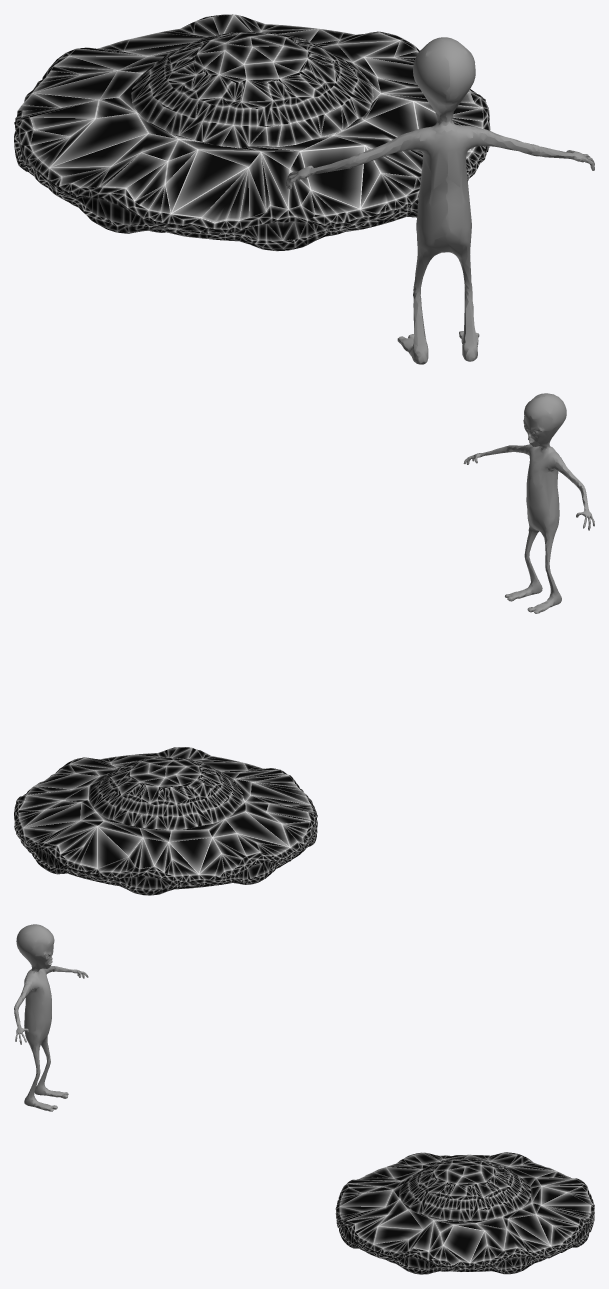
Rendered from frame_037.obj.
The picture shows the model from 3 angles, top to bottom: view 1: azimuth 30°, elevation 25°; view 2: azimuth 150°, elevation 25°; view 3: azimuth 270°, elevation 25°; orthographic projection. The views are drawn at different scales.
Parts seen in each view (by area): view 1: 13884_UFO_Saucer_v1_l2, 10469_GrayAlien_v01; view 2: 13884_UFO_Saucer_v1_l2, 10469_GrayAlien_v01; view 3: 13884_UFO_Saucer_v1_l2, 10469_GrayAlien_v01.
Part boxes in pixels (x1,y1,x2,y2): 13884_UFO_Saucer_v1_l2: (14, 14, 490, 251); 10469_GrayAlien_v01: (285, 37, 594, 364); 13884_UFO_Saucer_v1_l2: (14, 747, 317, 895); 10469_GrayAlien_v01: (463, 393, 594, 613); 13884_UFO_Saucer_v1_l2: (335, 1152, 594, 1274); 10469_GrayAlien_v01: (14, 924, 88, 1111).
Bounding box in the file's own units: 16.16 × 15 × 28.45.
